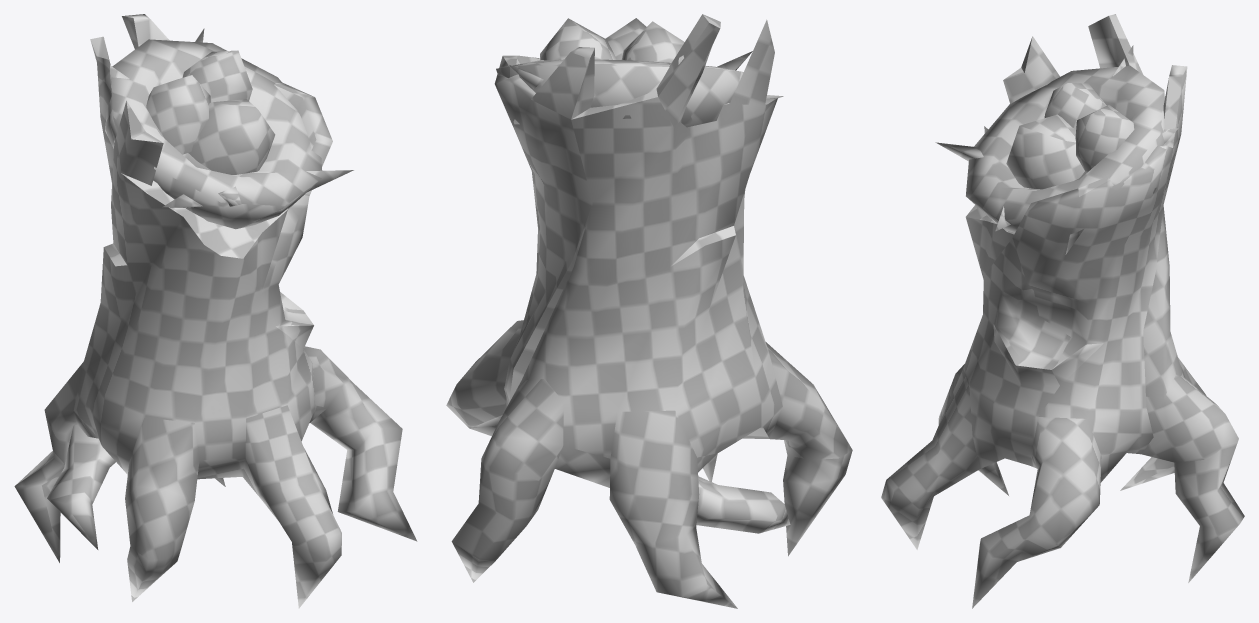
File: tree_stump_FBX.fbx
3 views of the same model, side by side, from view 1: azimuth 30°, elevation 25°; view 2: azimuth 150°, elevation 25°; view 3: azimuth 270°, elevation 25° (orthographic). The views are drawn at different scales.
Parts seen in each view (by area): view 1: tree_stump, bird_nest; view 2: tree_stump, bird_nest; view 3: tree_stump, bird_nest.
Part boxes in pixels (x1,y1,x2,y2): tree_stump: (14, 14, 417, 608); bird_nest: (105, 28, 353, 229); tree_stump: (446, 14, 852, 608); bird_nest: (496, 18, 783, 127); tree_stump: (881, 14, 1244, 608); bird_nest: (935, 45, 1178, 254).
Bounding box in the file's own units: 238 × 373 × 249.
Materials: 1 (1 with a texture image).
